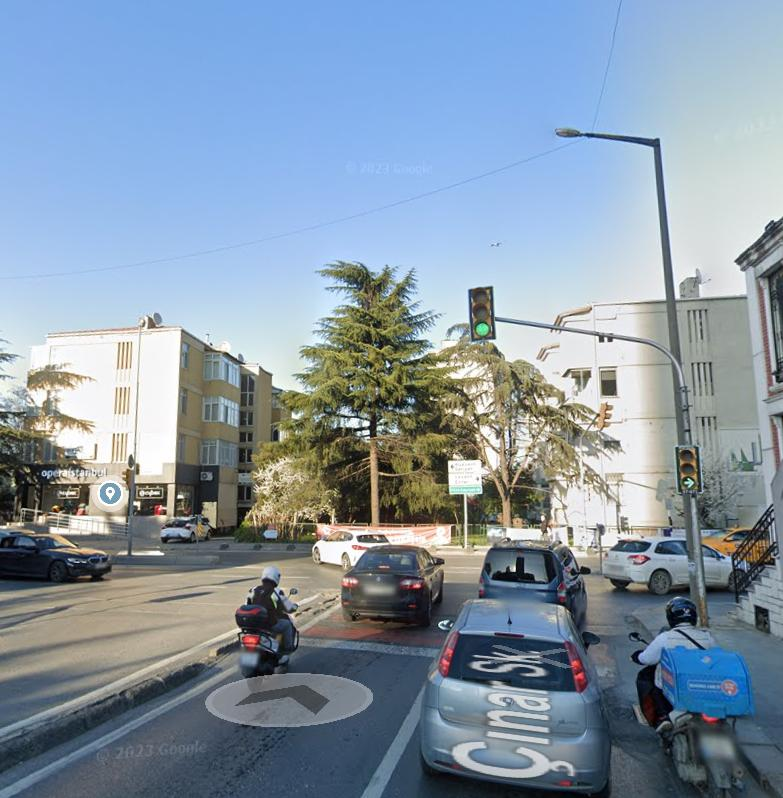greenlight: (675, 445, 702, 488), (469, 288, 493, 336)
